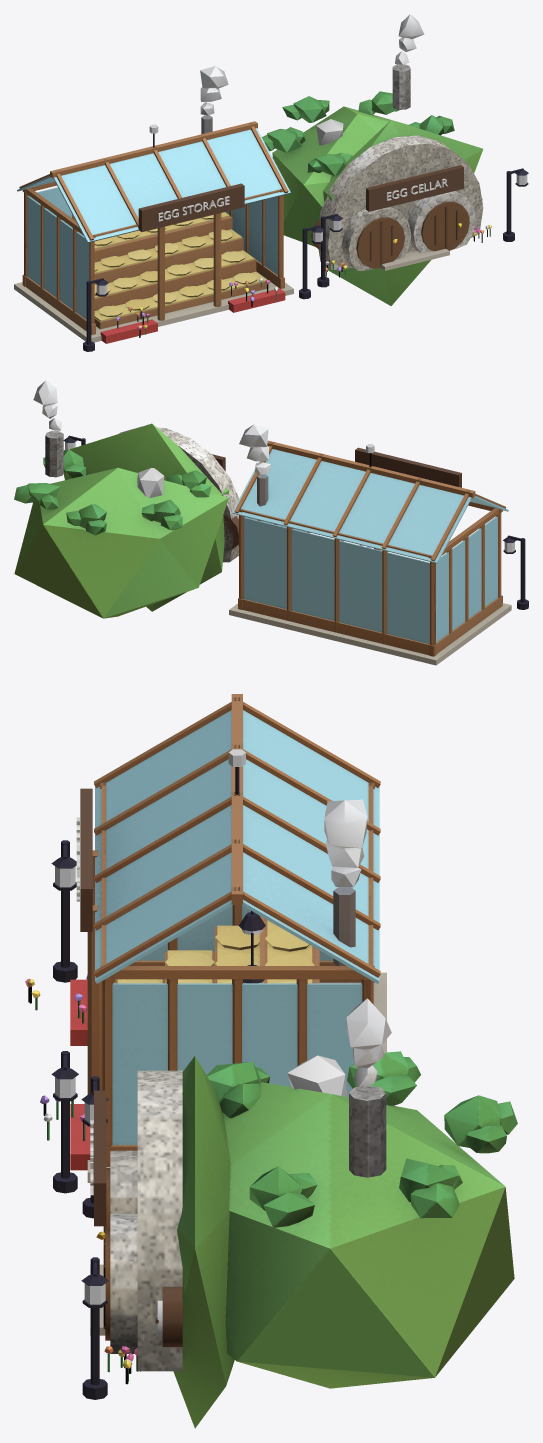
Rendered from home_cellar_3.fbx.
3 views of the same model, one above another, from view 1: azimuth 30°, elevation 25°; view 2: azimuth 150°, elevation 25°; view 3: azimuth 270°, elevation 25° (orthographic). The views are drawn at different scales.
Parts seen in each view (by area): view 1: home_cellar_3_body, home_cellar_3_body_glow, home_cellar_3_body2_glow; view 2: home_cellar_3_body, home_cellar_3_body_glow; view 3: home_cellar_3_body, home_cellar_3_body_glow, home_cellar_3_body2_glow.
Part boxes in pixels (x1=…): home_cellar_3_body: x1=14, y1=14, x2=528, y2=351; home_cellar_3_body_glow: x1=316, y1=119, x2=343, y2=145; home_cellar_3_body2_glow: x1=96, y1=174, x2=527, y2=294; home_cellar_3_body: x1=14, y1=380, x2=528, y2=665; home_cellar_3_body_glow: x1=137, y1=468, x2=164, y2=497; home_cellar_3_body: x1=25, y1=694, x2=517, y2=1428; home_cellar_3_body_glow: x1=157, y1=1055, x2=347, y2=1335; home_cellar_3_body2_glow: x1=55, y1=866, x2=105, y2=1304.
Size of the model in its own units: 4178 by 2184 by 1977.
Materials: 2 (1 with a texture image).
